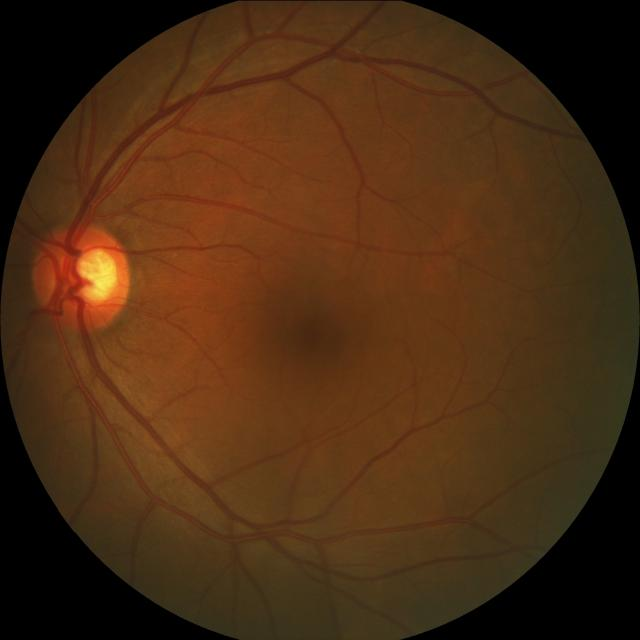OC: (62, 244, 120, 306)
OD: (32, 222, 135, 332)
